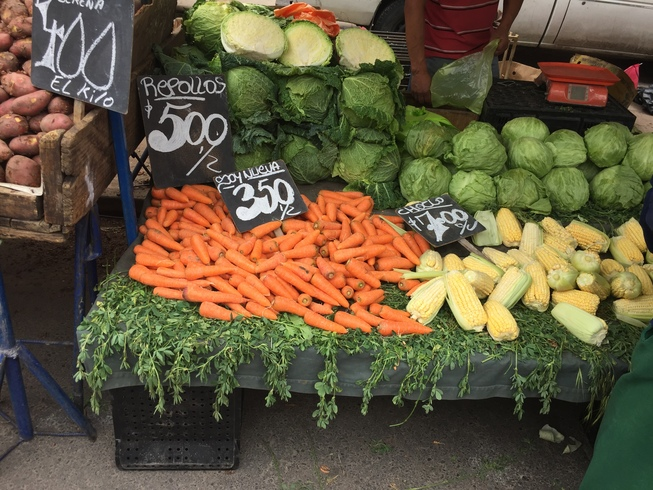precio: (138, 69, 246, 191), (32, 1, 134, 122), (208, 154, 318, 233), (393, 187, 491, 253)
